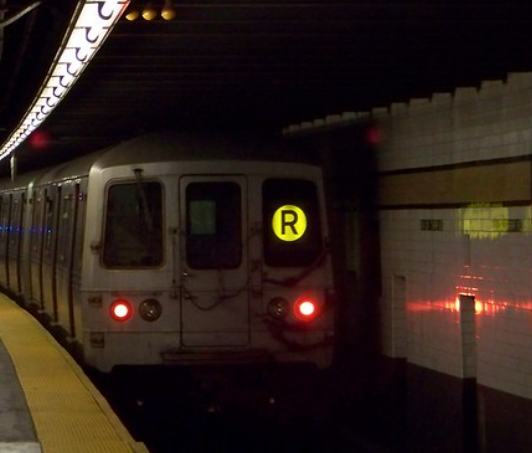train: (84, 125, 340, 367)
